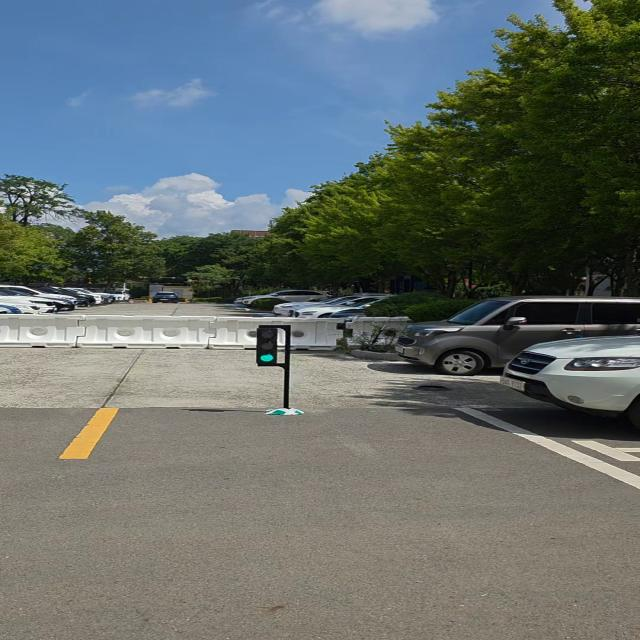green: (255, 324, 283, 368)
